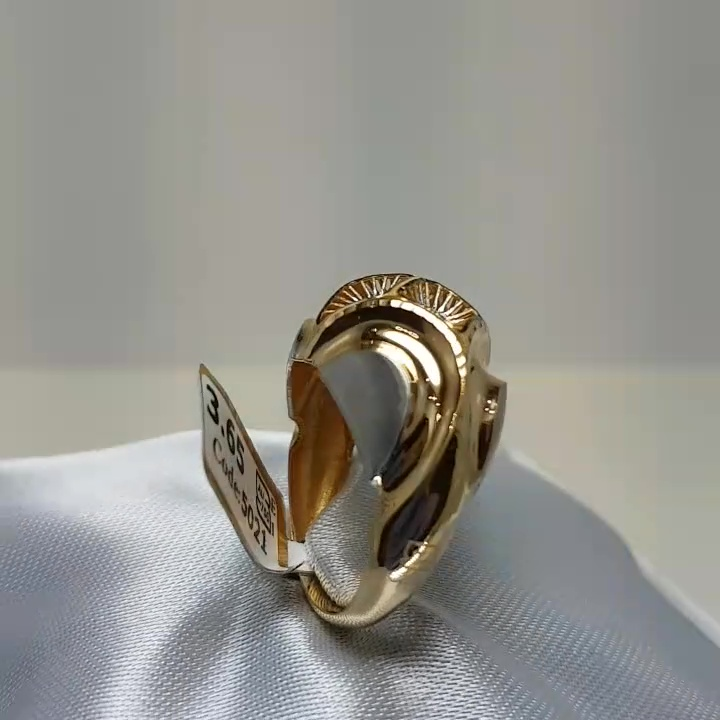Ring 2: (204, 259, 514, 670)
